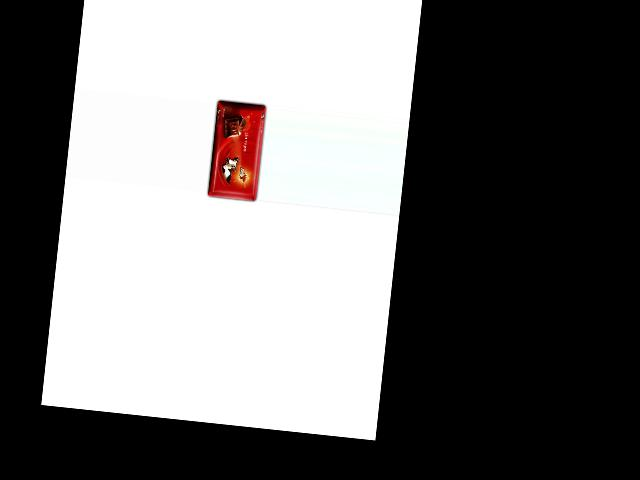chocolate: (203, 98, 266, 206)
